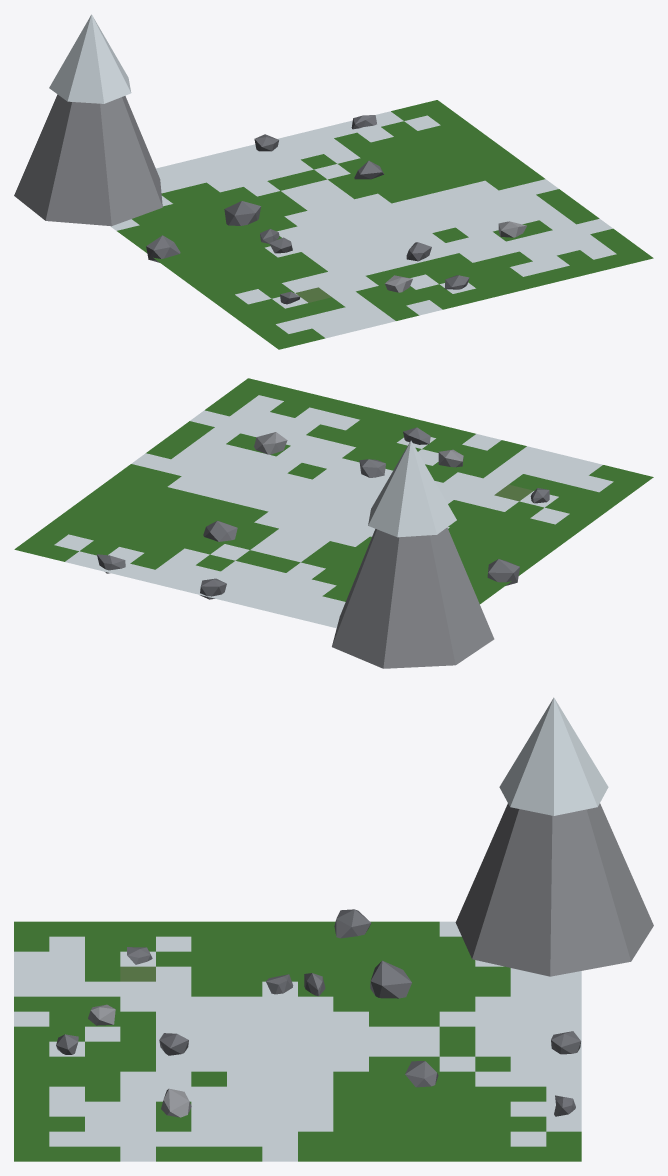
Rendered from chunk_8_1.glb.
The picture shows the model from 3 angles, top to bottom: view 1: azimuth 30°, elevation 25°; view 2: azimuth 150°, elevation 25°; view 3: azimuth 270°, elevation 25°; orthographic projection. The views are drawn at different scales.
Visible parts, largest first — view 1: chunk_8_1; view 2: chunk_8_1; view 3: chunk_8_1.
Part boxes in pixels (x1,y1,x2,y2): chunk_8_1: (14, 14, 653, 349); chunk_8_1: (14, 378, 653, 668); chunk_8_1: (14, 697, 653, 1161).
Bounding box in the file's own units: 17.83 × 7.8 × 18.04.
